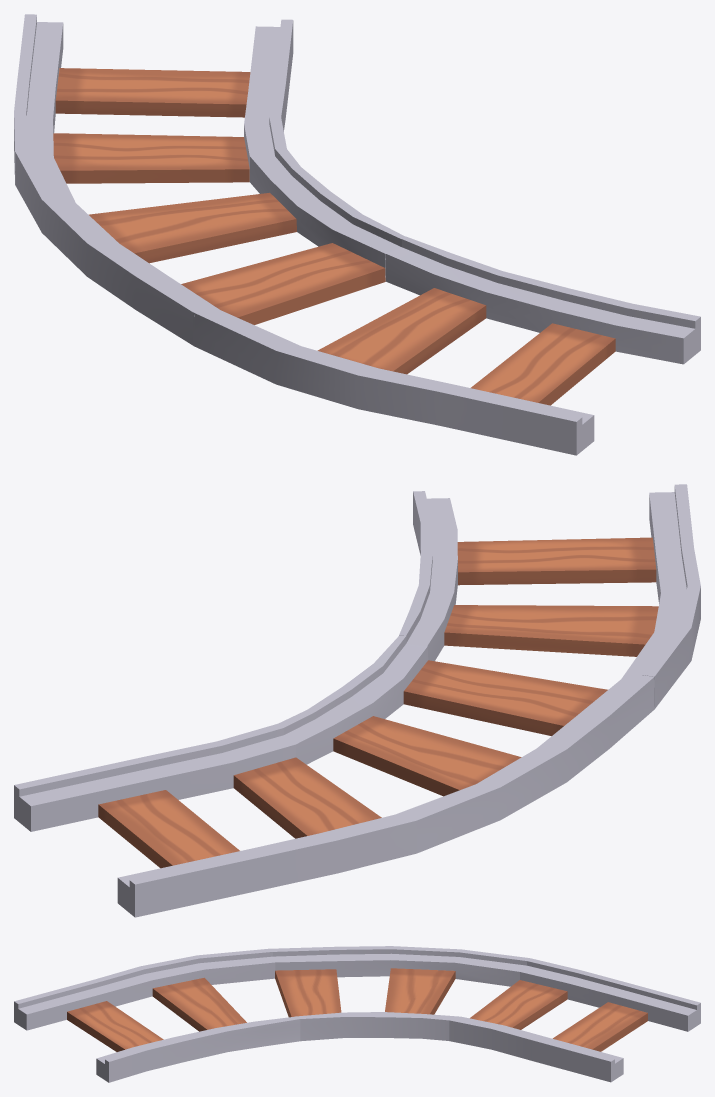
File: Rails_Rounded.fbx
The picture shows the model from 3 angles, top to bottom: view 1: azimuth 30°, elevation 25°; view 2: azimuth 150°, elevation 25°; view 3: azimuth 270°, elevation 25°; orthographic projection. The views are drawn at different scales.
Visible parts, largest first — view 1: Cube.003; view 2: Cube.003; view 3: Cube.003.
Boxes of the visible parts, <box> form: Cube.003: <box>14,14,700,455</box>; Cube.003: <box>14,484,700,917</box>; Cube.003: <box>14,946,700,1082</box>.
Size of the model in its own units: 290 by 25.98 by 724.
